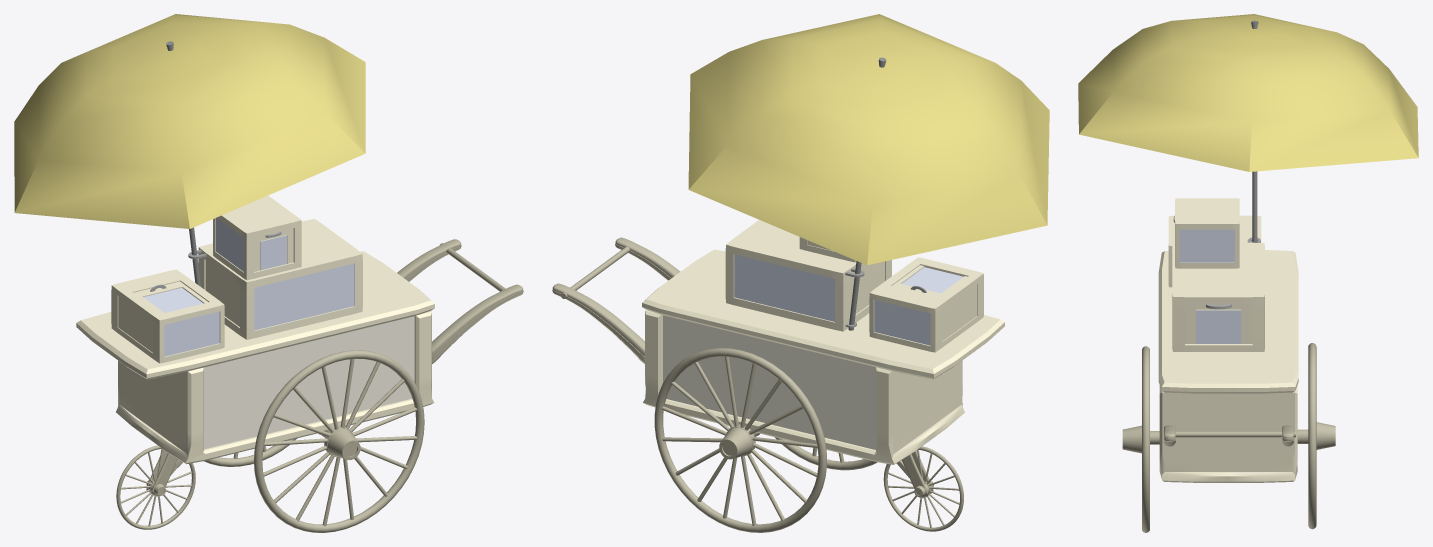
The model's file is AW_FoodCart15_DF.fbx.
The picture shows the model from 3 angles, left to right: view 1: azimuth 30°, elevation 25°; view 2: azimuth 150°, elevation 25°; view 3: azimuth 270°, elevation 25°; orthographic projection. The views are drawn at different scales.
Visible parts, largest first — view 1: Cart2; view 2: Cart2; view 3: Cart2.
Part boxes in pixels (left/top/right/bottom): Cart2: left=14, top=14, right=523, bottom=532; Cart2: left=552, top=14, right=1049, bottom=532; Cart2: left=1078, top=14, right=1418, bottom=532.
Bounding box in the file's own units: 3.21 × 3.11 × 2.13.
